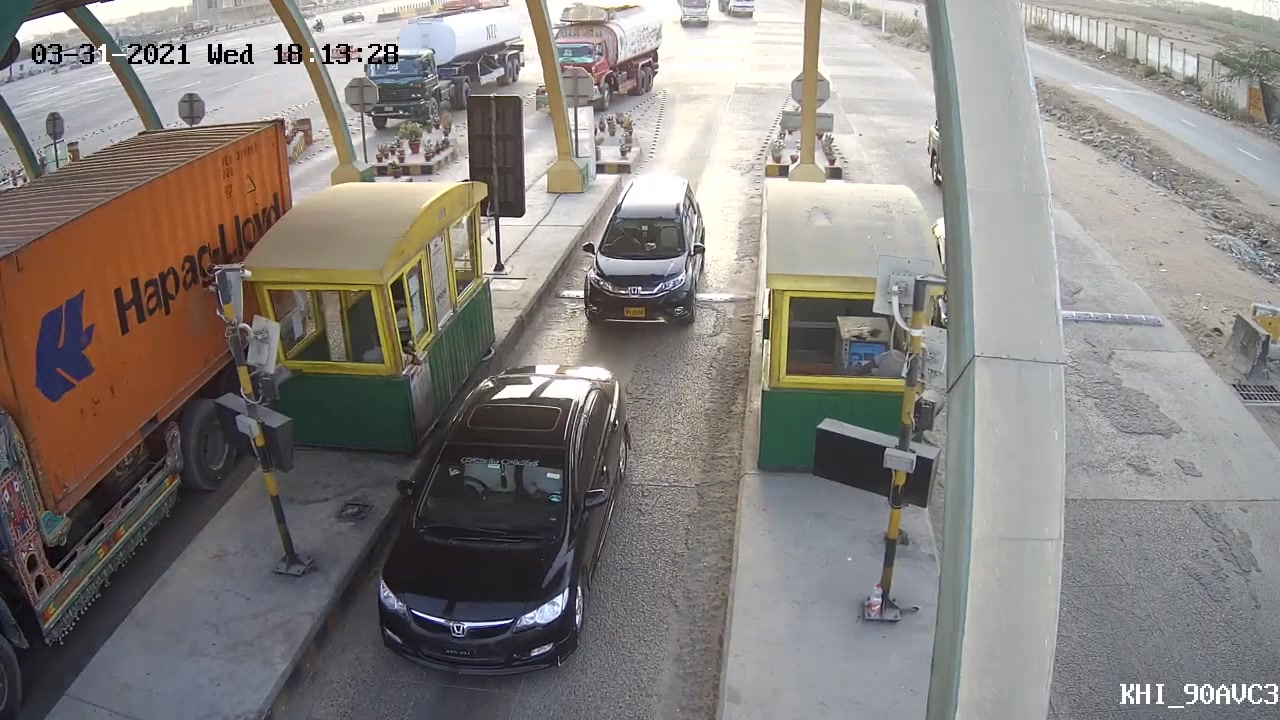F1: (372, 357, 634, 677), (570, 167, 713, 344)
